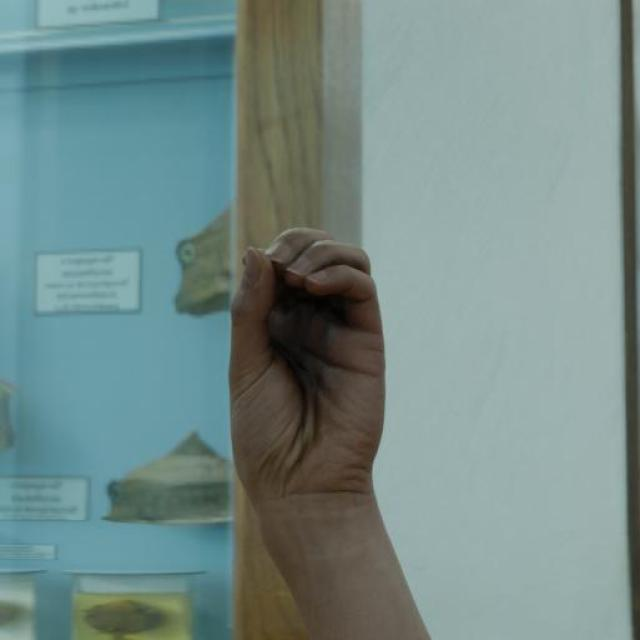O: (226, 225, 388, 516)
